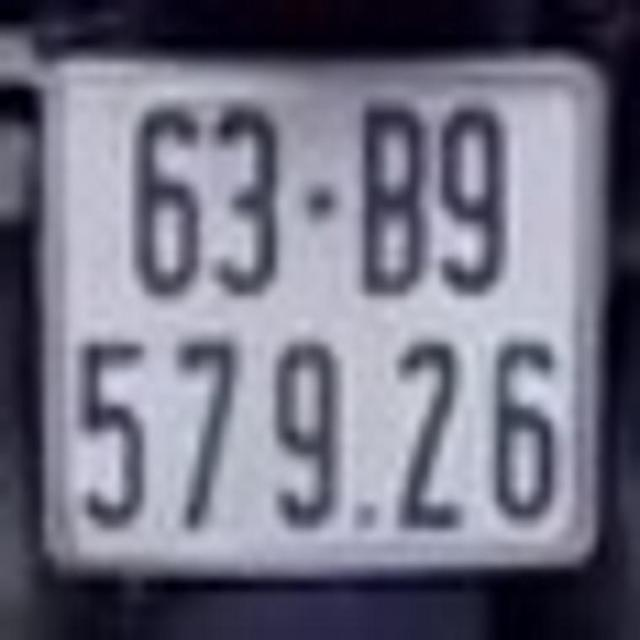2: (390, 329, 468, 529)
3: (210, 100, 282, 303)
5: (72, 336, 156, 530)
6: (120, 94, 206, 300), (487, 326, 562, 526)
7: (168, 332, 238, 528)
9: (436, 89, 515, 298), (267, 332, 344, 528)
B: (356, 92, 430, 298)
